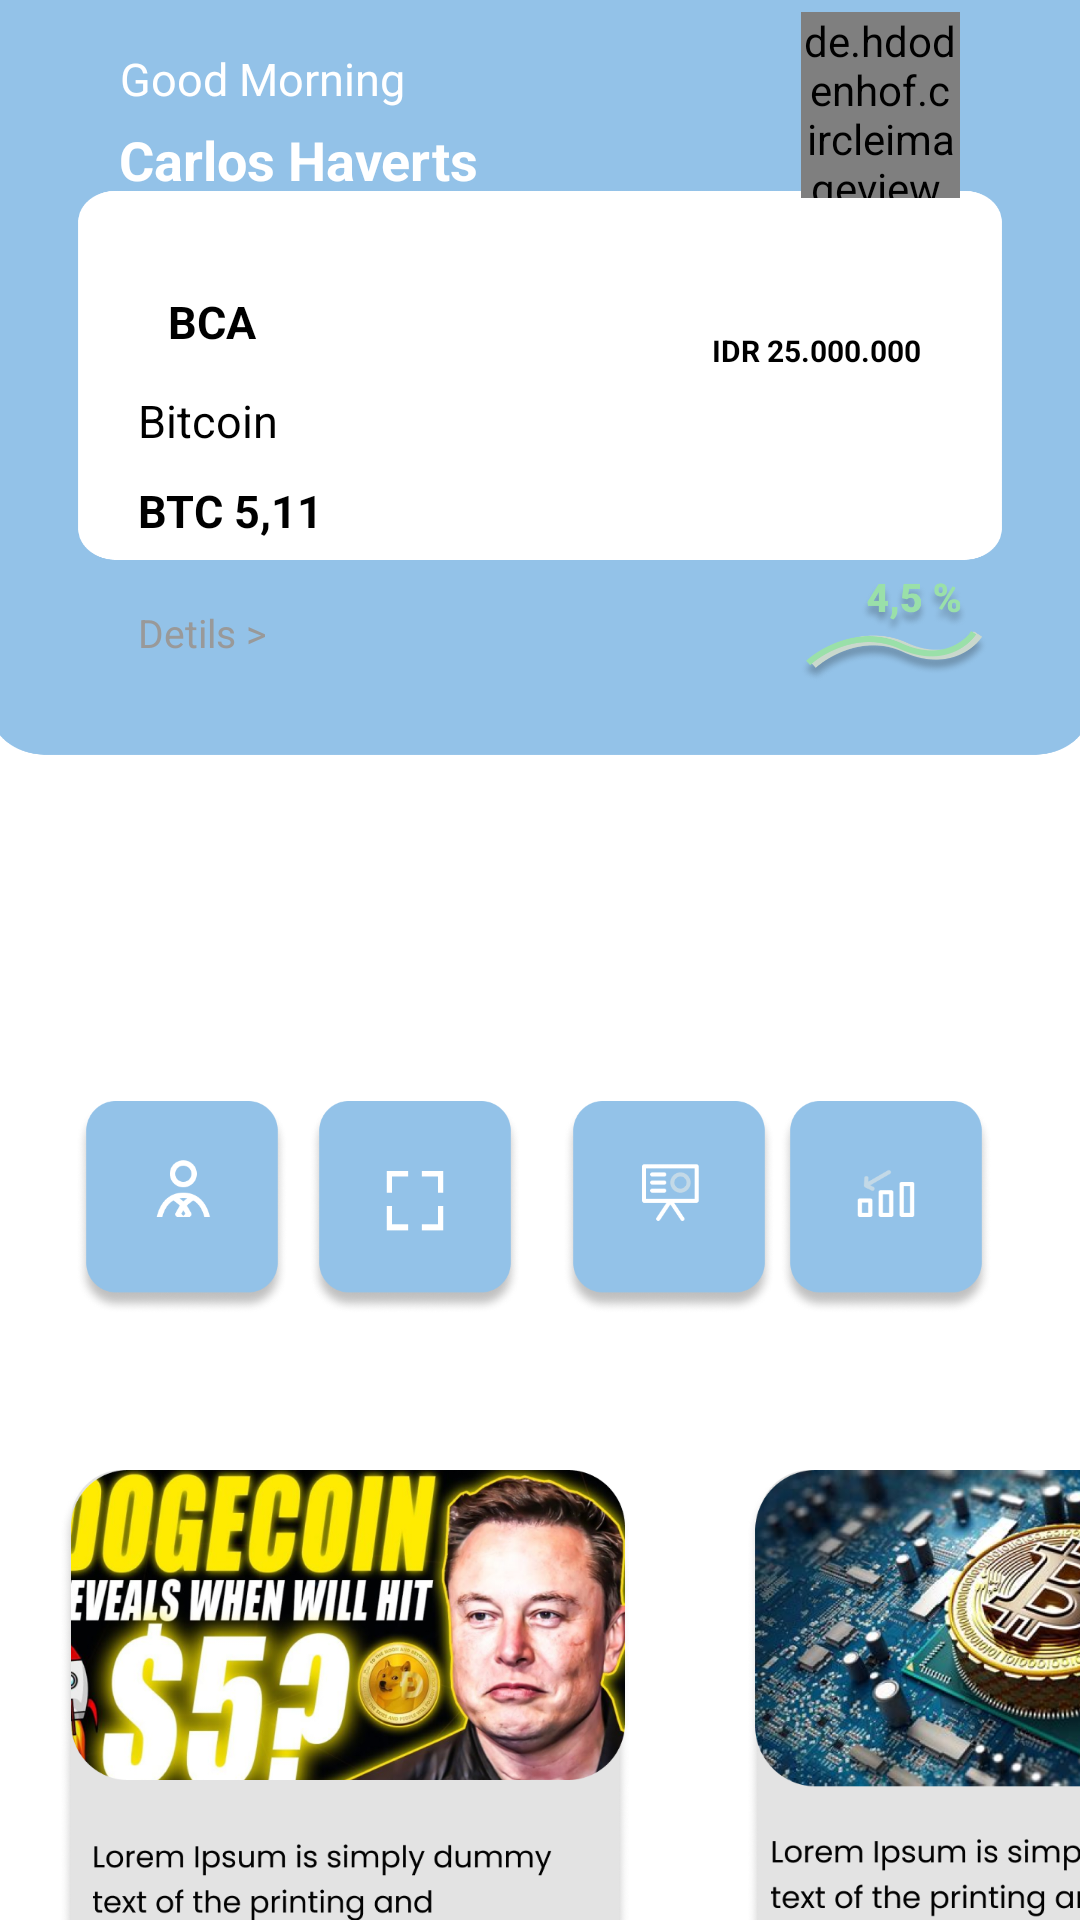

Locate icon controls on the screen. Image size 1080w x 1920h, boxes as (x1, y1, x2, y2).
icgraphiccurrency: (806, 583, 982, 674)
